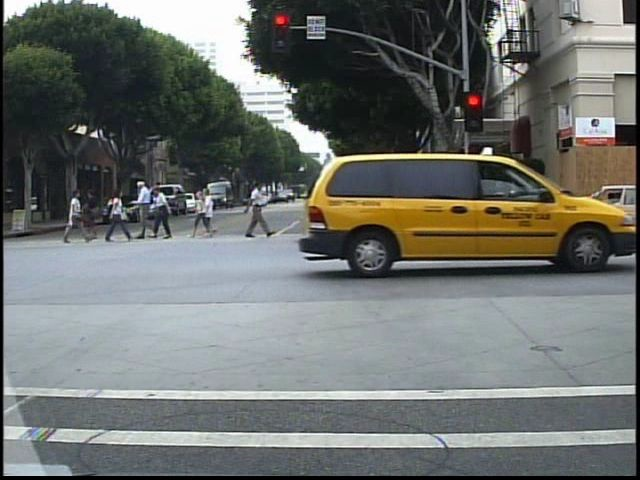person: (242, 181, 273, 241), (315, 167, 340, 238), (60, 187, 90, 243), (134, 176, 158, 244), (153, 185, 177, 240), (86, 188, 104, 243), (106, 187, 123, 245)
